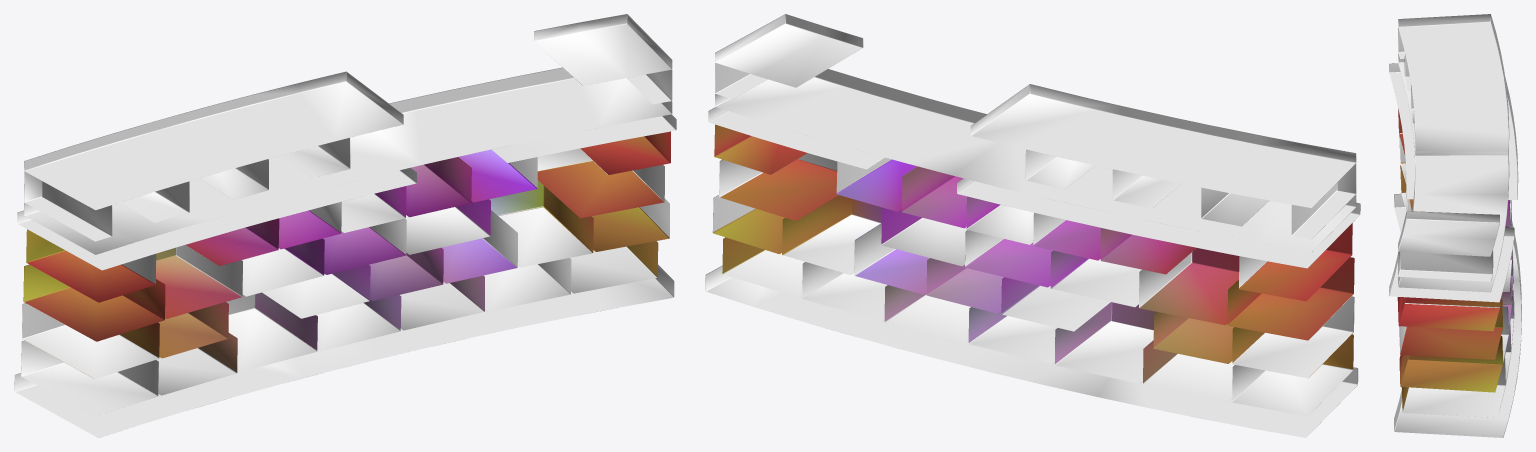
Rendered from wall-worn.glb.
3 views of the same model, side by side, from view 1: azimuth 30°, elevation 25°; view 2: azimuth 150°, elevation 25°; view 3: azimuth 270°, elevation 25° (orthographic). The views are drawn at different scales.
Visible parts, largest first — view 1: wall-worn; view 2: wall-worn; view 3: wall-worn.
Boxes of the visible parts, left/top/right/bottom form: wall-worn: left=14, top=14, right=676, bottom=437; wall-worn: left=705, top=14, right=1360, bottom=437; wall-worn: left=1389, top=14, right=1521, bottom=437.
Size of the model in its own units: 9.11 by 3.39 by 2.16.
